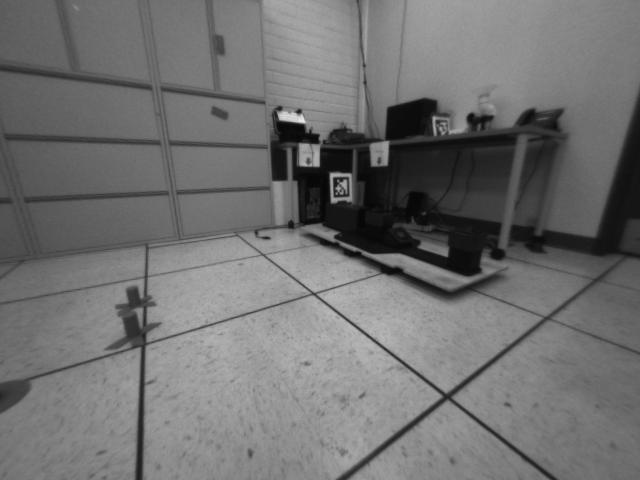X: (102, 310, 162, 353), (115, 284, 159, 315)
